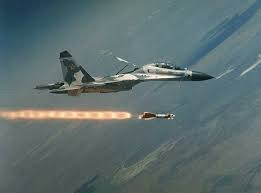maybay_muctieu: (43, 44, 216, 90)
ten_lua: (93, 102, 181, 125)
